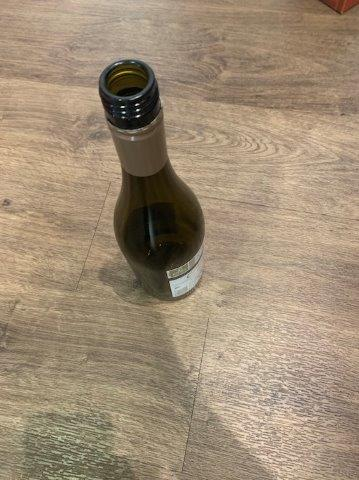botolkaca: (100, 59, 204, 301)
